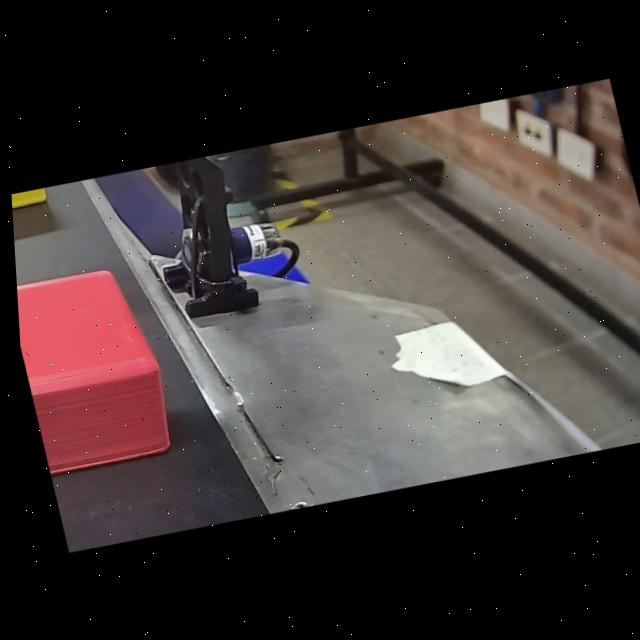redBox: (12, 254, 181, 484)
yellowBox: (9, 186, 54, 221)
